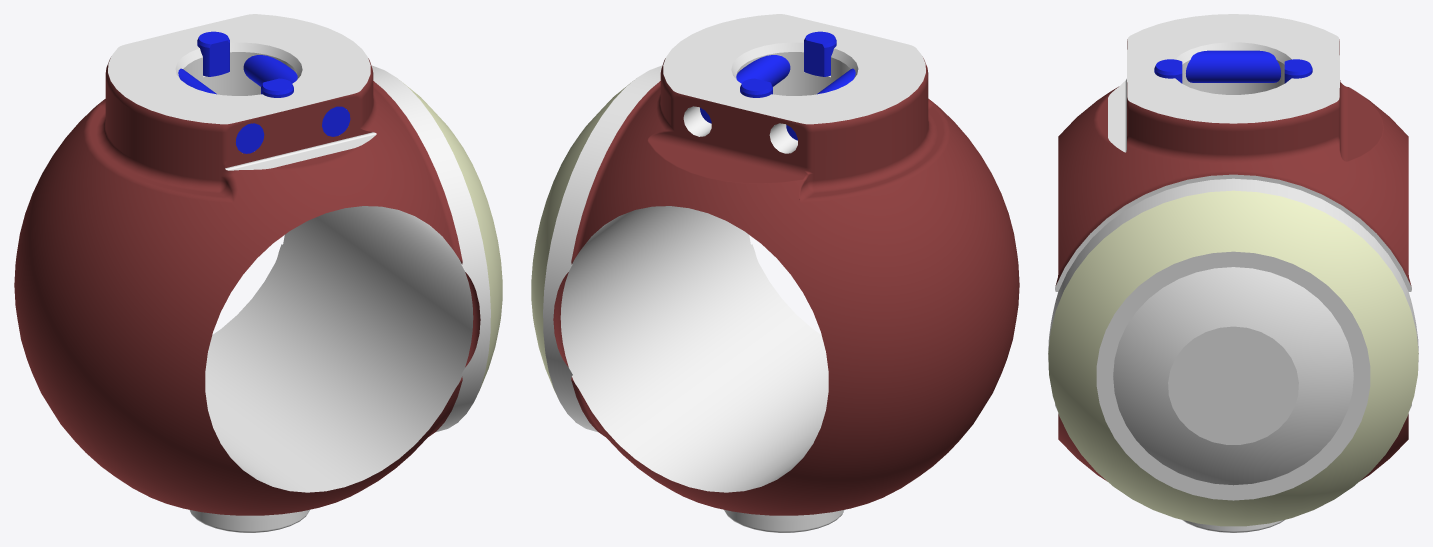
Rendered from 1A-MC5807_BALL ASSY.glb.
3 renders of one model, left to right at view 1: azimuth 30°, elevation 25°; view 2: azimuth 150°, elevation 25°; view 3: azimuth 270°, elevation 25°, orthographic.
Parts seen in each view (by area): view 1: Solid1 (×4); view 2: Solid1 (×3); view 3: Solid1 (×4).
Boxes of the visible parts, box(x1,y1,x2,y2) form: Solid1 (×4): box(14, 14, 502, 532); Solid1 (×3): box(531, 14, 1019, 532); Solid1 (×4): box(1048, 14, 1418, 532).
Bounding box in the file's own units: 0.1587 × 0.1689 × 0.127.
